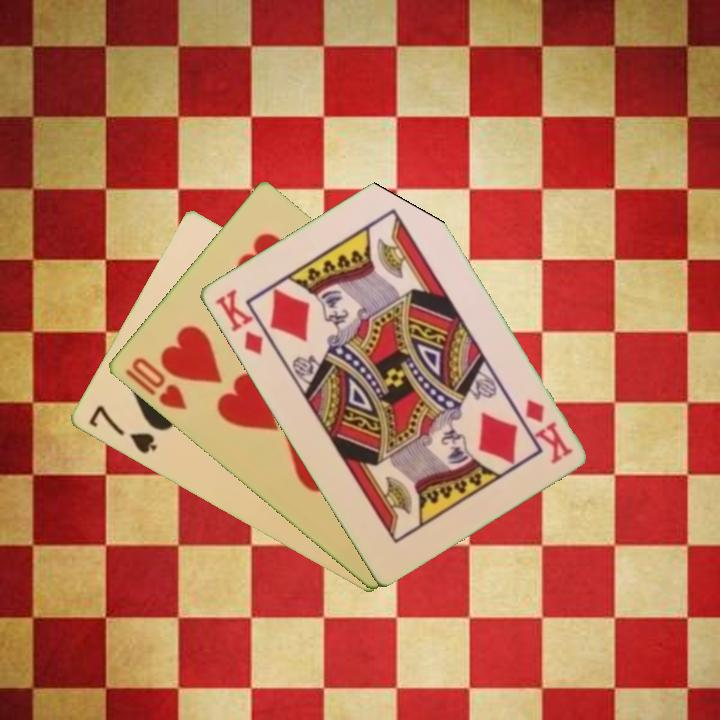10h: (127, 353, 190, 414)
7s: (85, 402, 160, 457)
Kd: (210, 285, 266, 358), (521, 395, 575, 467)
